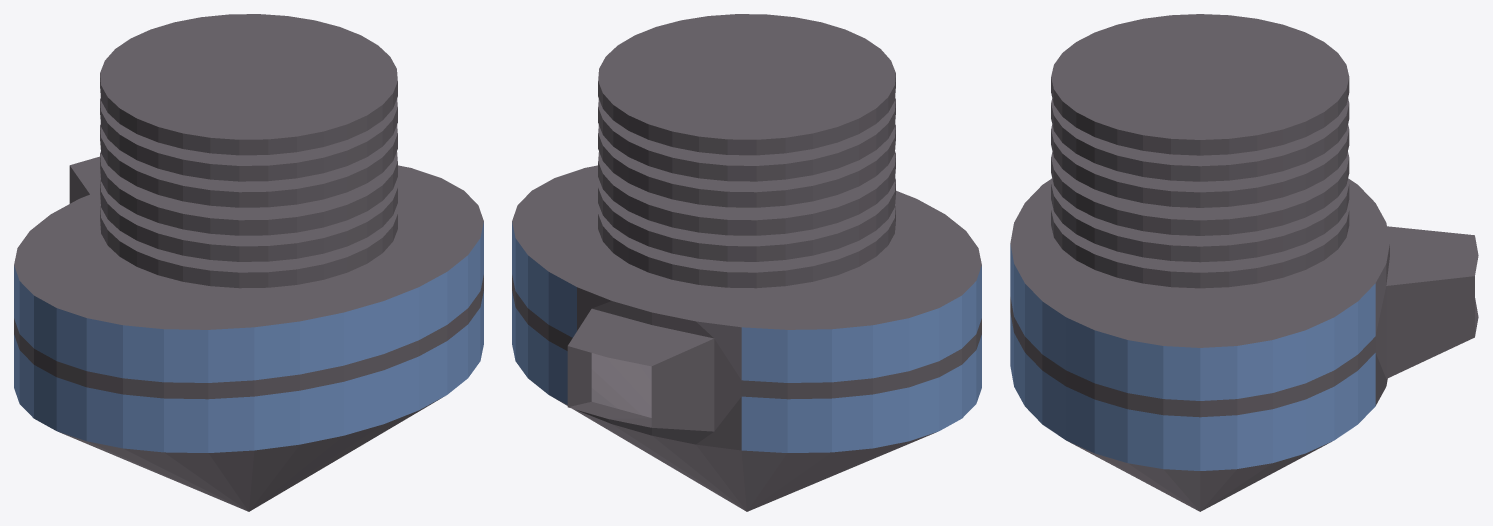
Rendered from station.fbx.
3 renders of one model, left to right at view 1: azimuth 30°, elevation 25°; view 2: azimuth 150°, elevation 25°; view 3: azimuth 270°, elevation 25°, orthographic.
Visible parts, largest first — view 1: Cylinder, Cylinder_004, Cylinder_001, Cylinder_005, Cylinder_006, Cylinder_002, Cylinder_003; view 2: Cylinder, Cylinder_004, Cylinder_001, Cylinder_005, Cylinder_006, Cylinder_002, Cylinder_003; view 3: Cylinder, Cylinder_004, Cylinder_001, Cylinder_006, Cylinder_005, Cylinder_003, Cylinder_002.
Boxes of the visible parts, left/top/right/bottom form: Cylinder: left=14, top=156, right=483, bottom=511; Cylinder_004: left=100, top=14, right=397, bottom=155; Cylinder_001: left=100, top=151, right=397, bottom=235; Cylinder_005: left=100, top=97, right=397, bottom=181; Cylinder_006: left=100, top=124, right=397, bottom=207; Cylinder_002: left=100, top=178, right=397, bottom=261; Cylinder_003: left=100, top=204, right=397, bottom=288; Cylinder: left=512, top=165, right=981, bottom=511; Cylinder_004: left=598, top=14, right=895, bottom=155; Cylinder_001: left=598, top=151, right=895, bottom=235; Cylinder_005: left=598, top=97, right=895, bottom=181; Cylinder_006: left=598, top=124, right=895, bottom=207; Cylinder_002: left=598, top=178, right=895, bottom=261; Cylinder_003: left=598, top=204, right=895, bottom=288; Cylinder: left=1010, top=178, right=1478, bottom=511; Cylinder_004: left=1051, top=14, right=1349, bottom=155; Cylinder_001: left=1051, top=151, right=1349, bottom=235; Cylinder_006: left=1051, top=124, right=1349, bottom=207; Cylinder_005: left=1051, top=98, right=1349, bottom=181; Cylinder_003: left=1051, top=205, right=1349, bottom=288; Cylinder_002: left=1051, top=178, right=1349, bottom=262.
Size of the model in its own units: 16.64 by 16.09 by 15.69.
